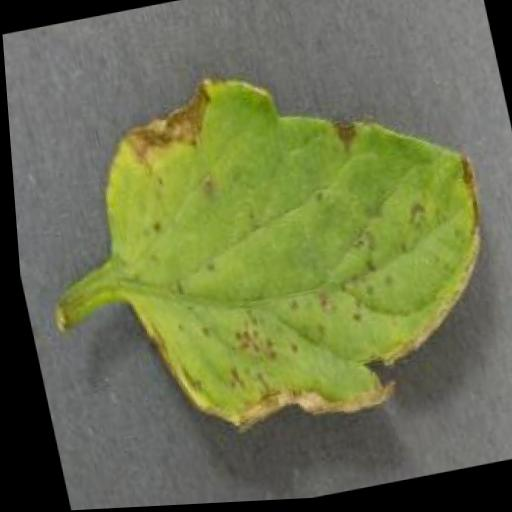Bacterial Spot: (57, 20, 512, 469)
